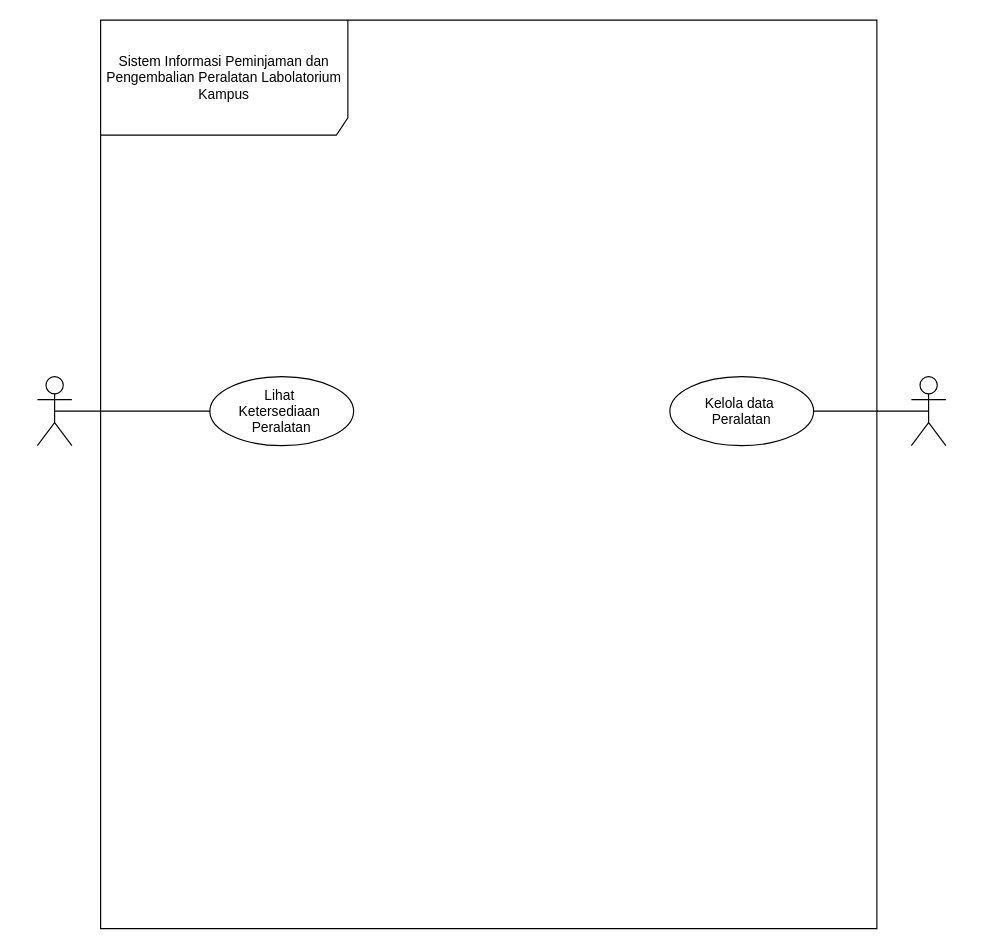
Some shapes in this 983 by 949 pixel diagram are drawn without their labels. Each missing label, with the centre of its shape:
"Mahasiswa" belongs at point (54, 410).
"petugas lab" belongs at point (928, 410).
